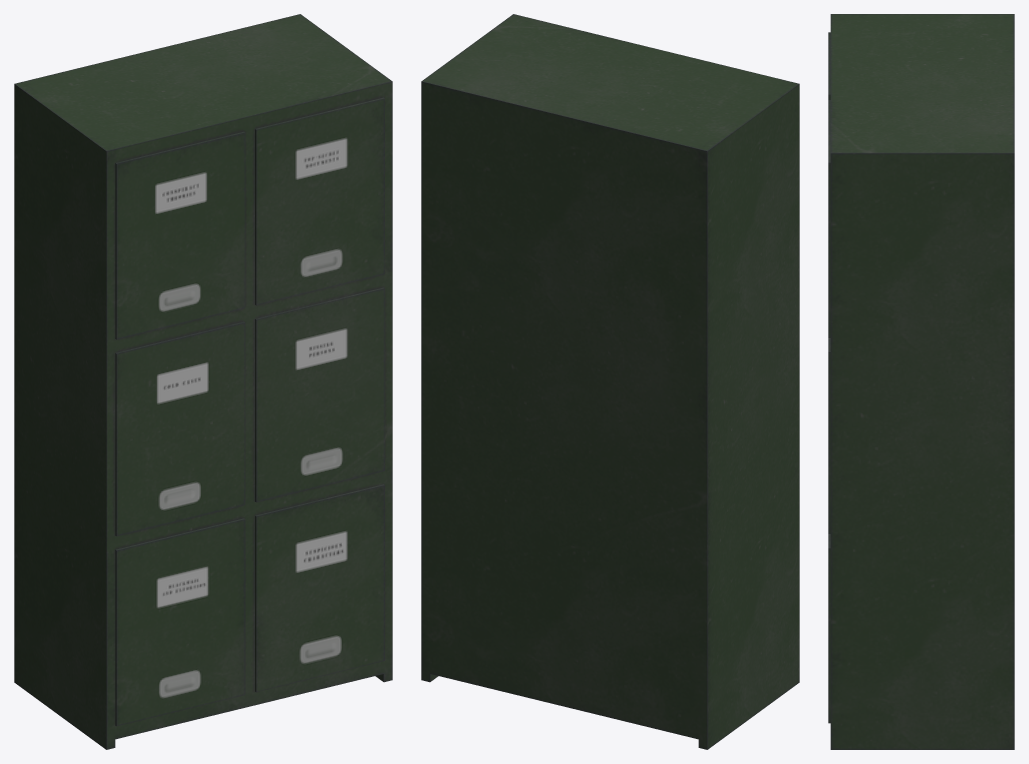
File: lemari.glb
3 views of the same model, side by side, from view 1: azimuth 30°, elevation 25°; view 2: azimuth 150°, elevation 25°; view 3: azimuth 270°, elevation 25° (orthographic).
Parts seen in each view (by area): view 1: SM_filing_cabinet_2, SM_filing_cabinet_2.draw_3, SM_filing_cabinet_2.draw_4, SM_filing_cabinet_2.draw_5, SM_filing_cabinet_2.draw_1, SM_filing_cabinet_2.draw_6, SM_filing_cabinet_2.draw_2; view 2: SM_filing_cabinet_2; view 3: SM_filing_cabinet_2, SM_filing_cabinet_2.draw_2, SM_filing_cabinet_2.draw_4, SM_filing_cabinet_2.draw_6.
Part boxes in pixels (x1,y1,x2,y2): SM_filing_cabinet_2: (14, 14, 392, 749); SM_filing_cabinet_2.draw_3: (115, 321, 245, 536); SM_filing_cabinet_2.draw_4: (255, 287, 384, 502); SM_filing_cabinet_2.draw_5: (115, 518, 245, 726); SM_filing_cabinet_2.draw_1: (115, 131, 245, 339); SM_filing_cabinet_2.draw_6: (255, 484, 384, 692); SM_filing_cabinet_2.draw_2: (255, 97, 384, 305); SM_filing_cabinet_2: (421, 14, 799, 749); SM_filing_cabinet_2: (830, 14, 1014, 749); SM_filing_cabinet_2.draw_2: (828, 100, 830, 337); SM_filing_cabinet_2.draw_4: (828, 338, 830, 533); SM_filing_cabinet_2.draw_6: (828, 534, 830, 723).
Size of the model in its own units: 0.9248 by 1.85 by 0.5223.
Materials: 1 (1 with a texture image).
